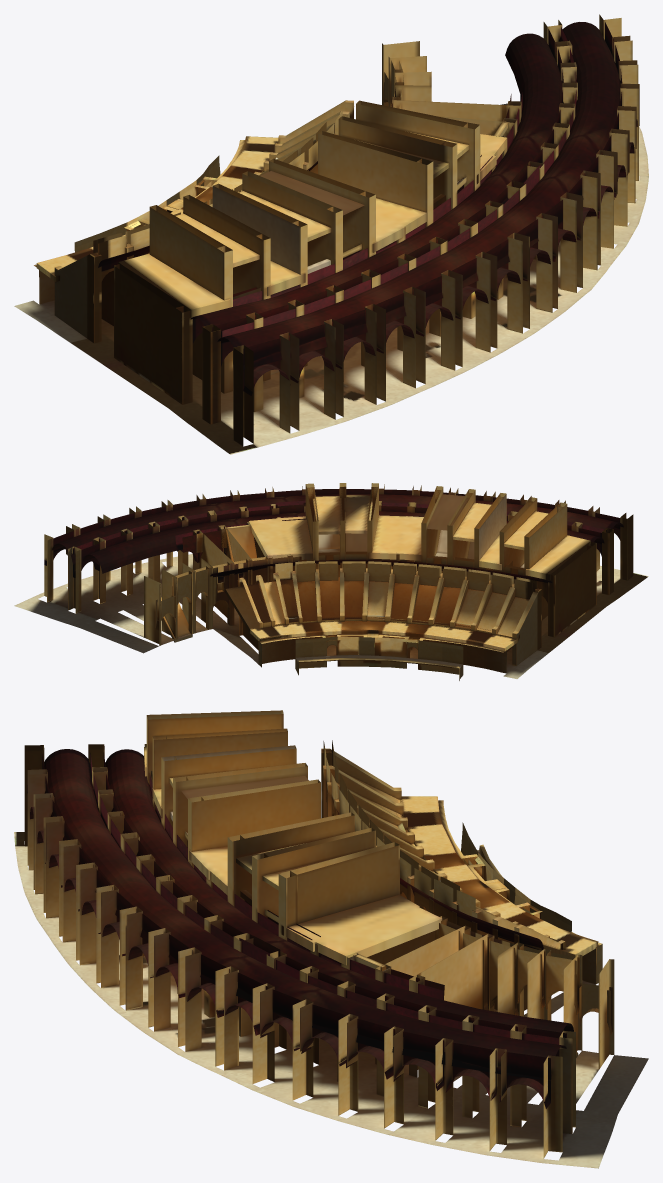
Rendered from colera1v9.glb.
The picture shows the model from 3 angles, top to bottom: view 1: azimuth 30°, elevation 25°; view 2: azimuth 150°, elevation 25°; view 3: azimuth 270°, elevation 25°; orthographic projection. The views are drawn at different scales.
Parts seen in each view (by area): view 1: Cube.103; view 2: Cube.103; view 3: Cube.103.
Boxes of the visible parts, box(x1,y1,x2,y2) form: Cube.103: box(14, 14, 648, 454); Cube.103: box(14, 483, 648, 680); Cube.103: box(14, 710, 648, 1168).
Size of the model in its own units: 267 by 55.66 by 210.
Materials: 1 (1 with a texture image).
